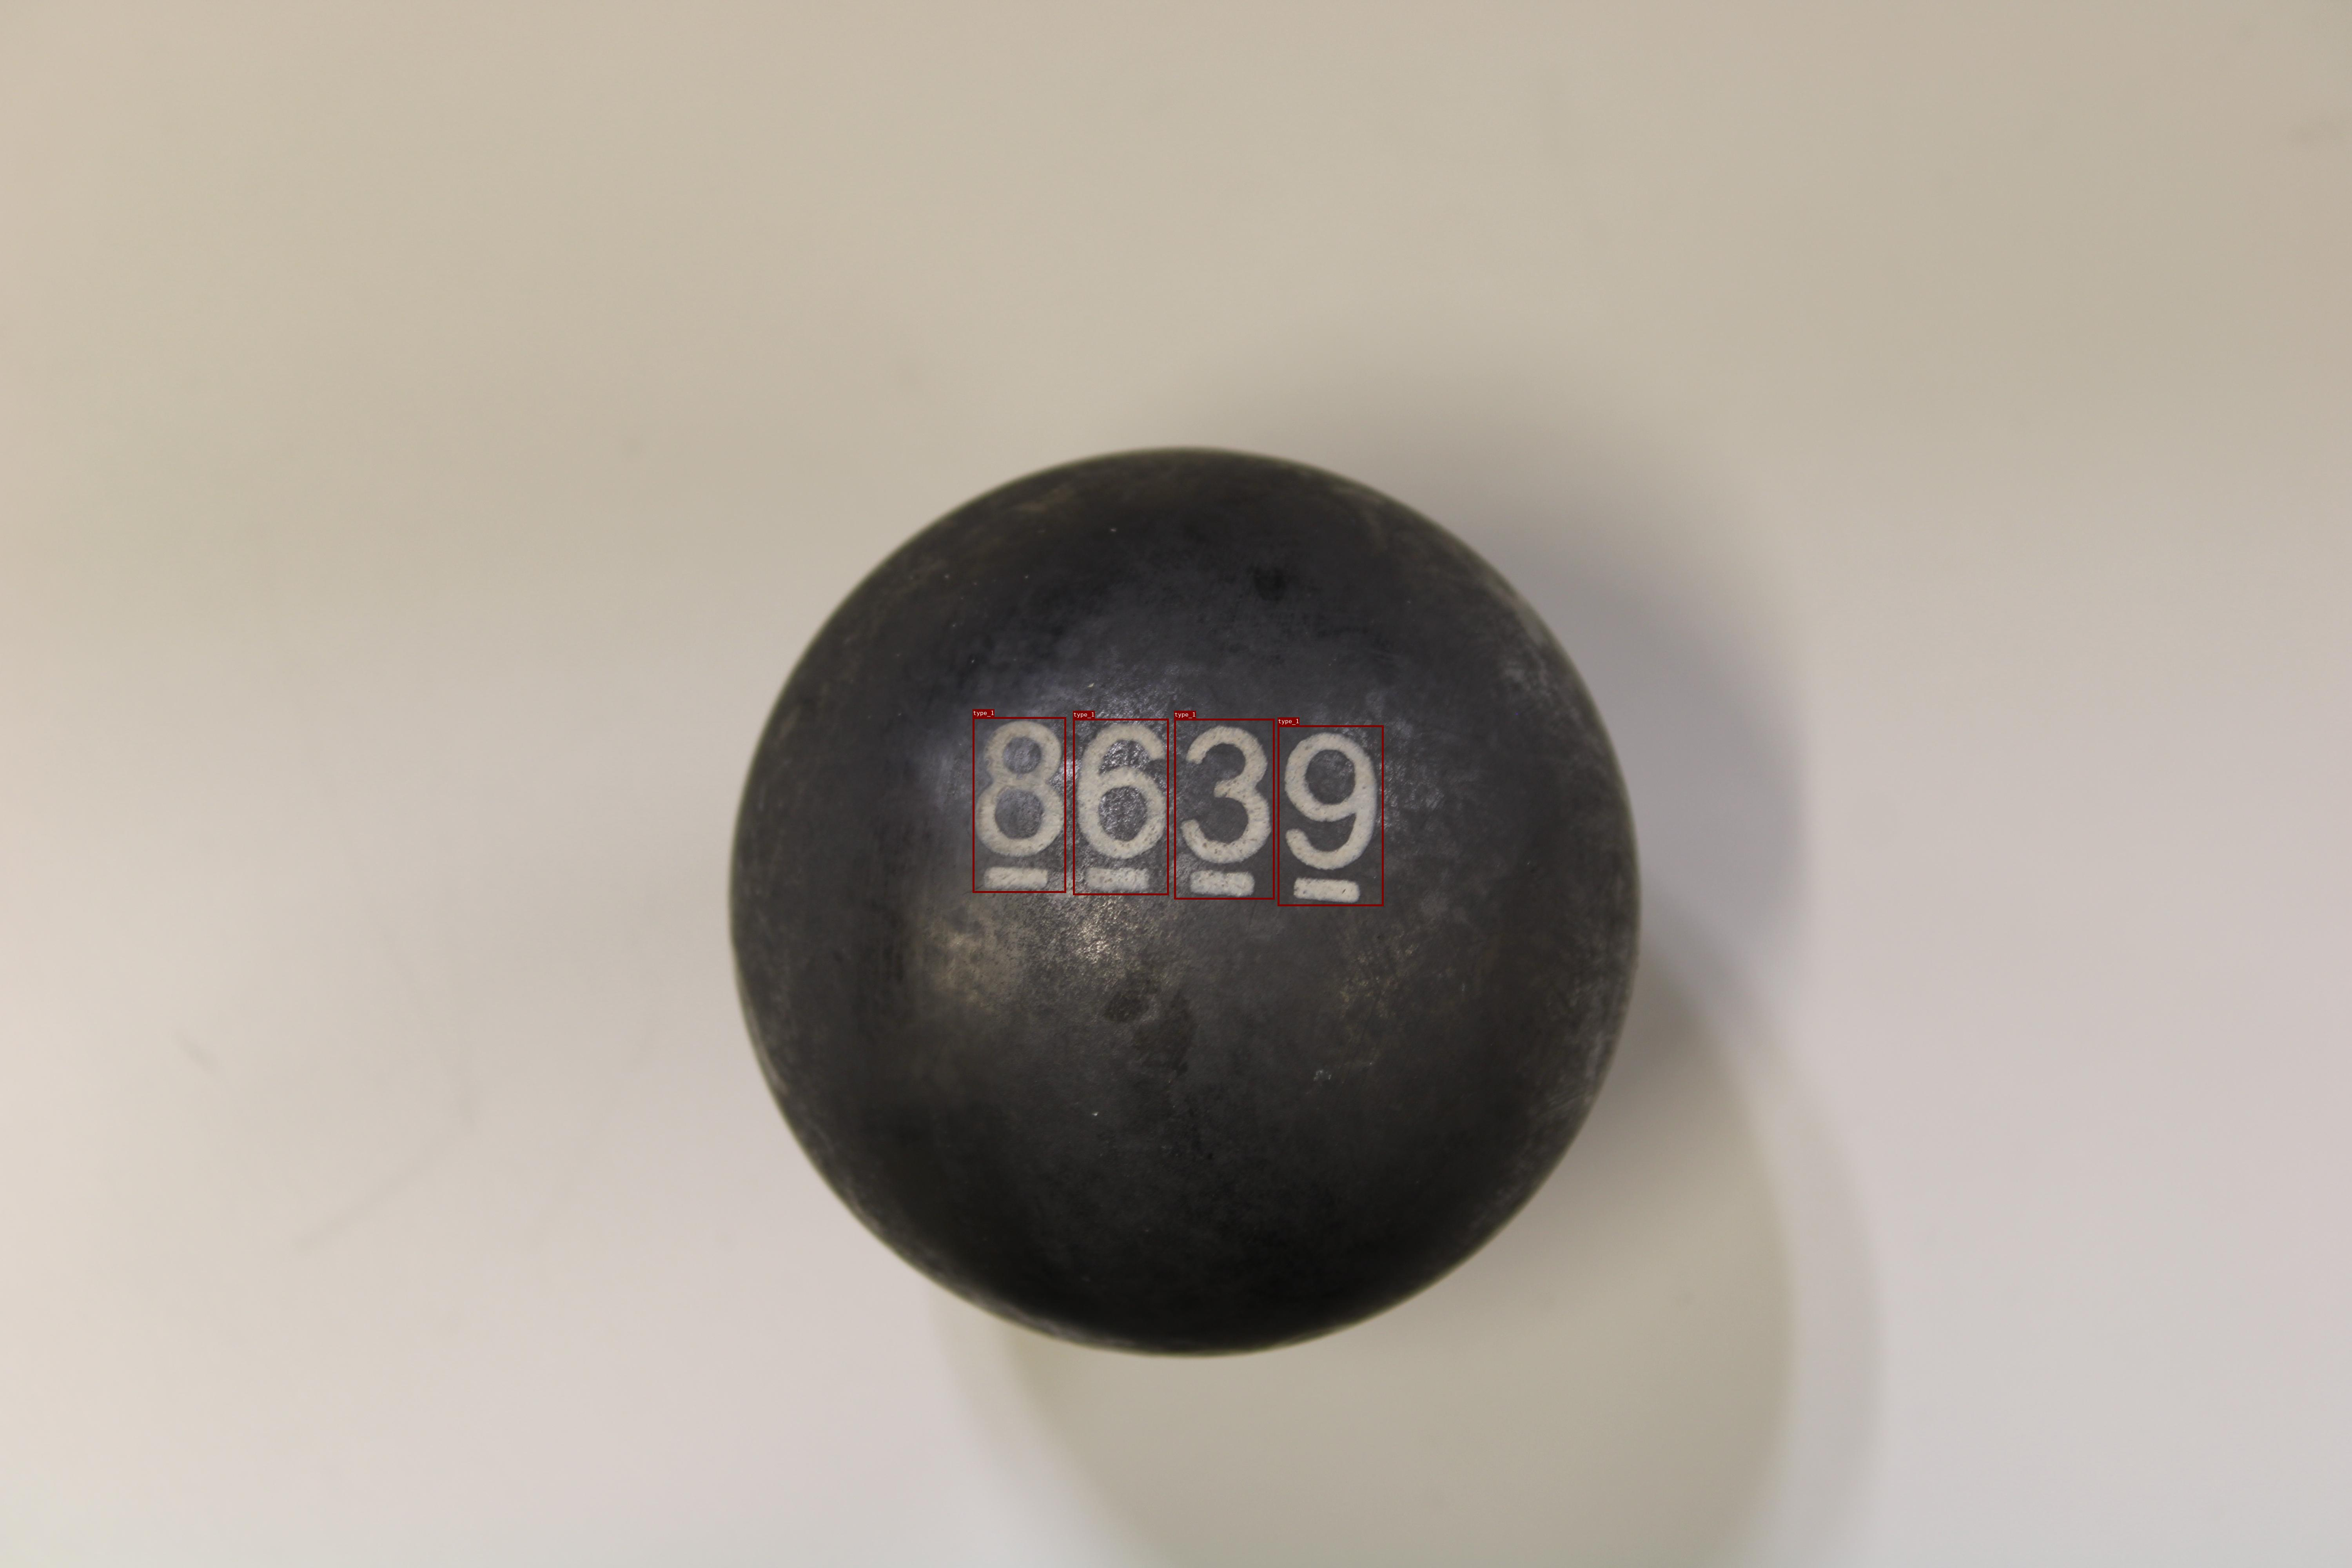type_1: (1277, 724, 1382, 906), (1174, 719, 1274, 900), (1073, 719, 1169, 894), (973, 717, 1066, 892)
